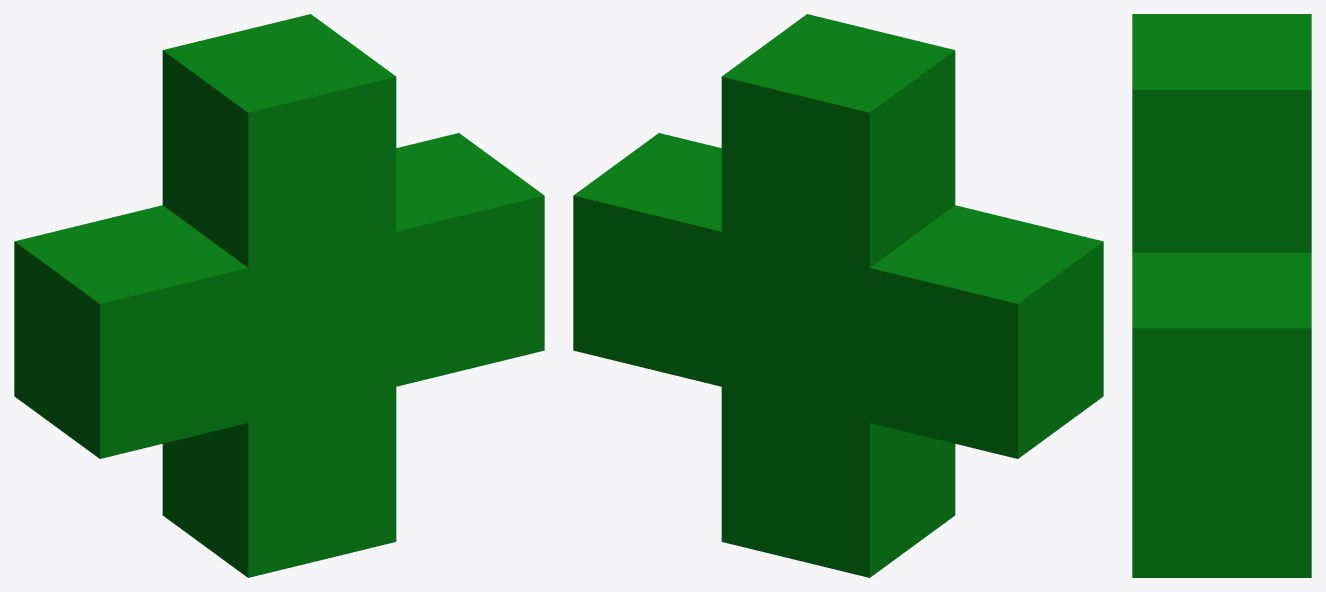
Rendered from HealItem.obj.
3 views of the same model, side by side, from view 1: azimuth 30°, elevation 25°; view 2: azimuth 150°, elevation 25°; view 3: azimuth 270°, elevation 25° (orthographic). The views are drawn at different scales.
Parts seen in each view (by area): view 1: 立方体; view 2: 立方体; view 3: 立方体.
Part boxes in pixels (left/top/right/bottom): 立方体: left=14, top=14, right=544, bottom=577; 立方体: left=573, top=14, right=1103, bottom=577; 立方体: left=1132, top=14, right=1311, bottom=577.
Bounding box in the file's own units: 1.5 × 1.5 × 0.5.
1 material, 1 textured.
